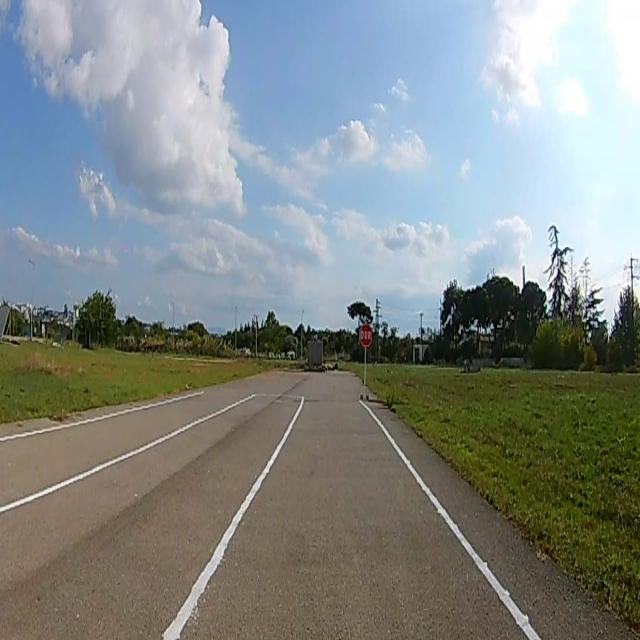dur: (360, 324, 372, 347)
